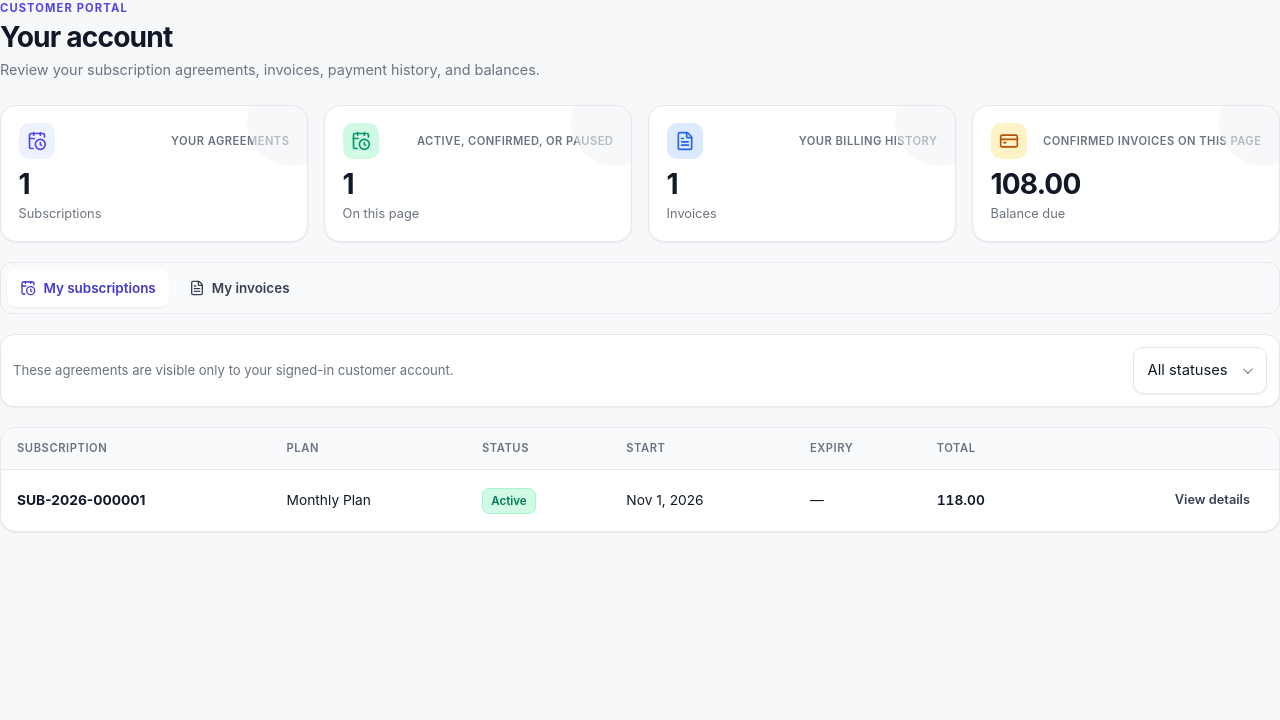
Test: CustomerPortalPage › shows only portal data and lets the customer inspect invoice discounts and balance
Expected: the text "SUB-2026-000001" is shown, [17,492,146,508]
Click the tab "My invoices": (239, 288) [175,269,303,307]
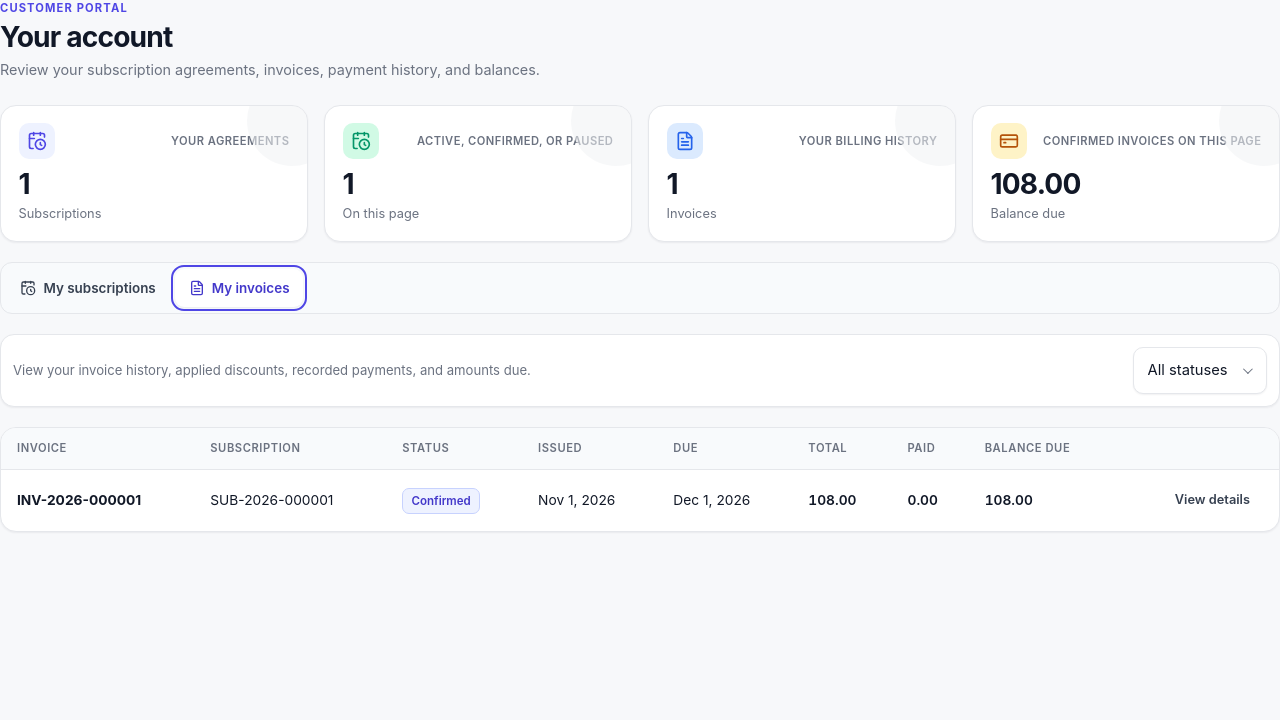
Expected: the text "INV-2026-000001" is shown, [17,492,141,508]
Click the button "View details": (1212, 501) [1162,485,1263,517]
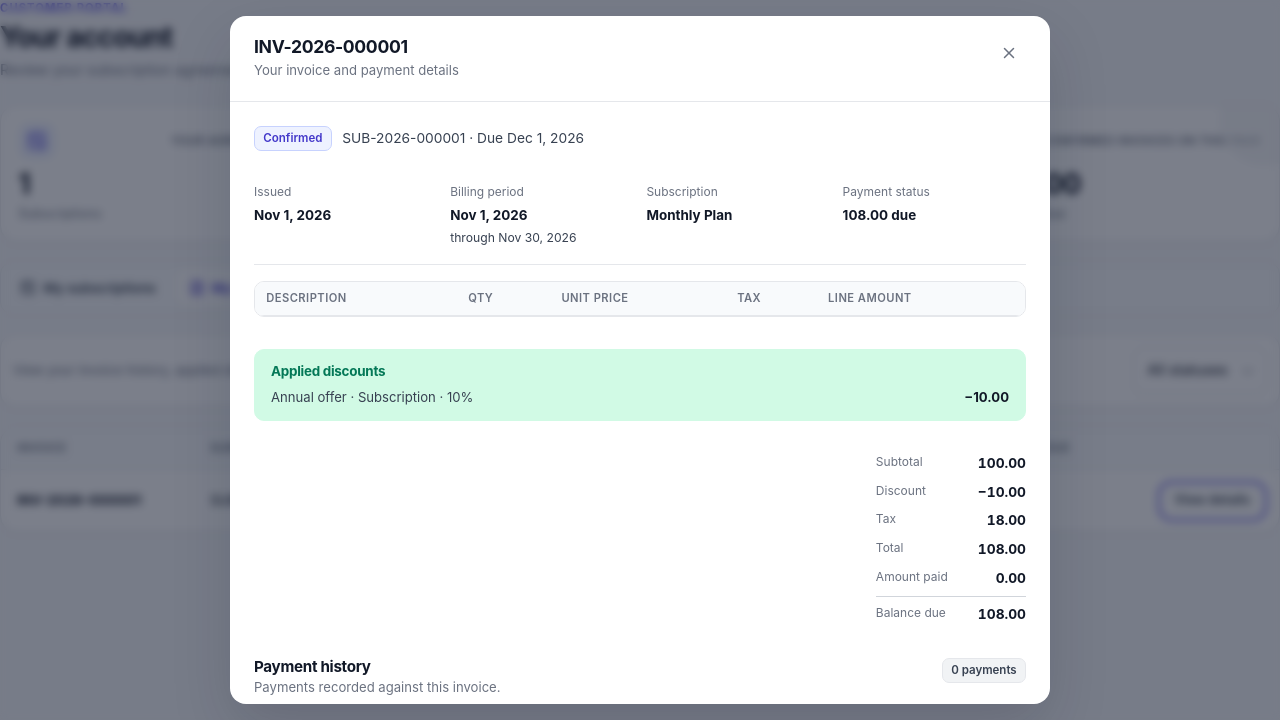
Expected: the text "Balance due" is shown 3 times, [991,206,1065,221]; [969,428,1114,470]; [876,604,946,626]
Expected: the text "Annual offer · Subscription · 10%" is shown, [271,387,474,408]
